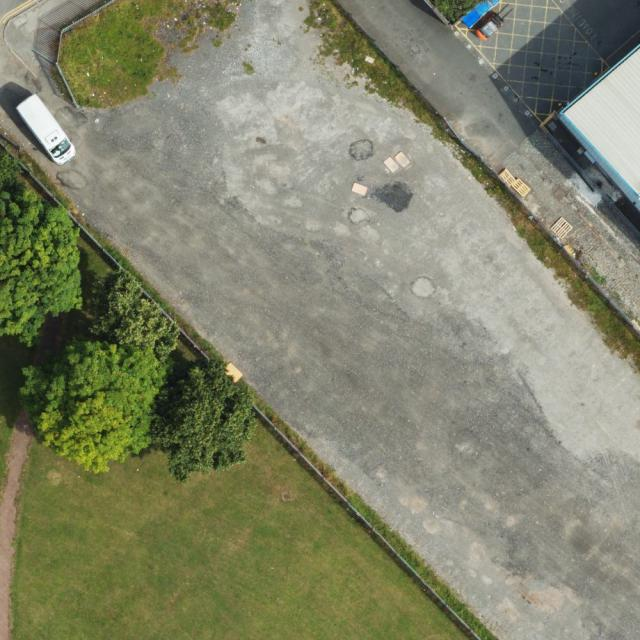roof: (565, 46, 640, 201)
